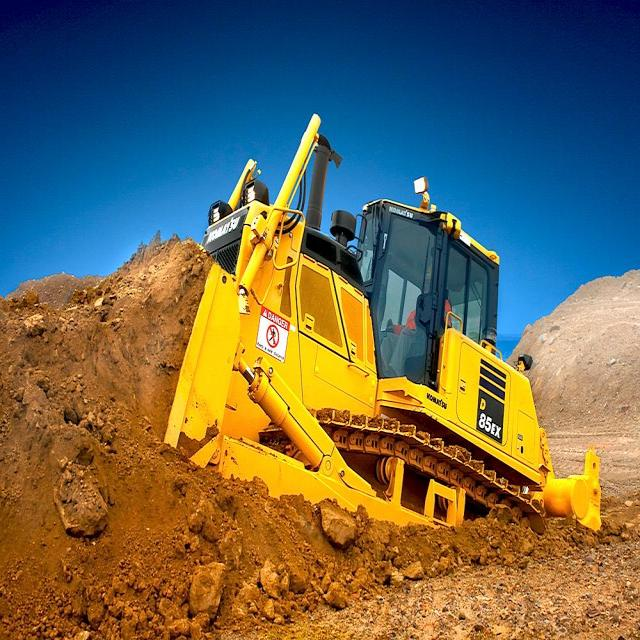Bulldozer: (123, 103, 601, 568)
